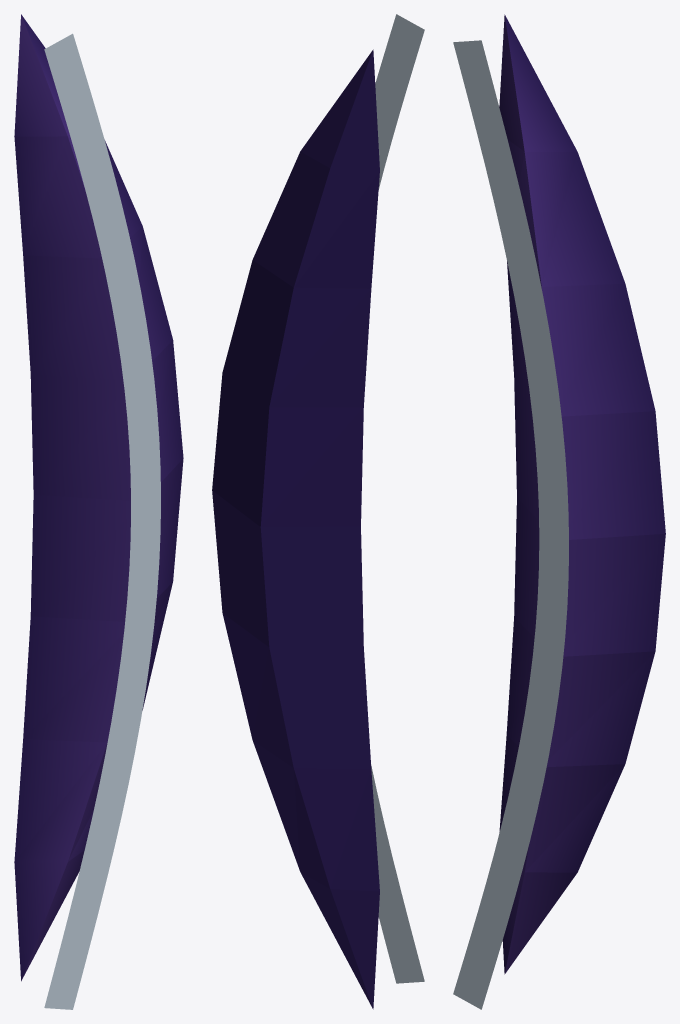
Rendered from Fischl_OzAttack_Overall_OzLongTailFeather.fbx.
The picture shows the model from 3 angles, left to right: view 1: azimuth 30°, elevation 25°; view 2: azimuth 150°, elevation 25°; view 3: azimuth 330°, elevation 25°; orthographic projection.
Parts seen in each view (by area): view 1: PART_OzLongTail_FacetedFeather, PART_OzLongTail_VioletFeatherSpine; view 2: PART_OzLongTail_FacetedFeather, PART_OzLongTail_VioletFeatherSpine; view 3: PART_OzLongTail_FacetedFeather, PART_OzLongTail_VioletFeatherSpine.
Boxes of the visible parts, <box> form: PART_OzLongTail_FacetedFeather: <box>14,14,183,981</box>; PART_OzLongTail_VioletFeatherSpine: <box>44,33,160,1009</box>; PART_OzLongTail_FacetedFeather: <box>212,49,379,1009</box>; PART_OzLongTail_VioletFeatherSpine: <box>371,14,424,983</box>; PART_OzLongTail_FacetedFeather: <box>499,14,665,974</box>; PART_OzLongTail_VioletFeatherSpine: <box>453,40,568,1009</box>.
Bounding box in the file's own units: 7.08 × 37.34 × 4.4.
